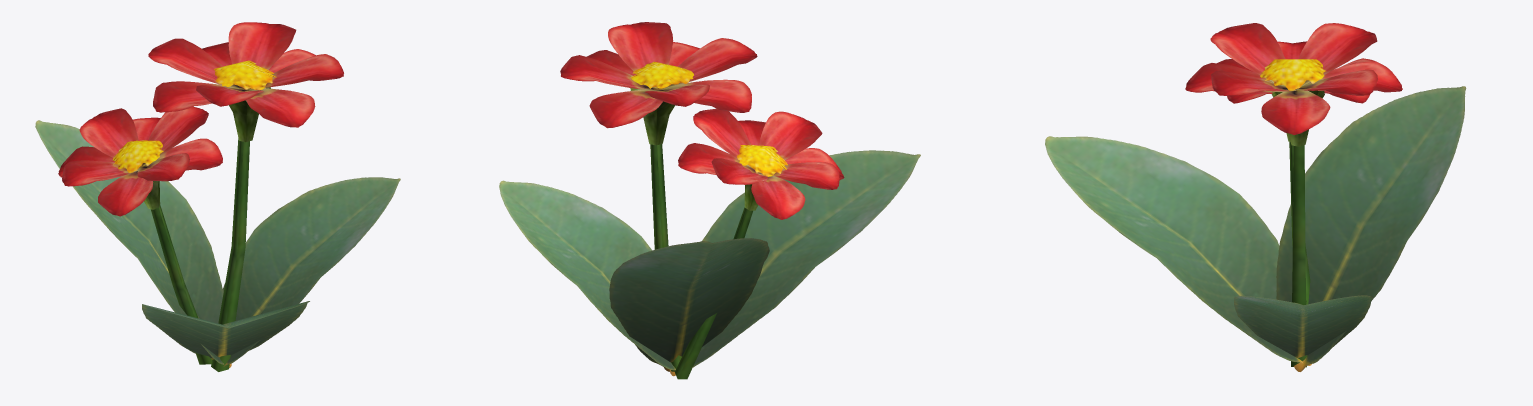
The model's file is redf4.fbx.
3 renders of one model, left to right at view 1: azimuth 30°, elevation 25°; view 2: azimuth 150°, elevation 25°; view 3: azimuth 270°, elevation 25°, orthographic. The views are drawn at different scales.
Parts seen in each view (by area): view 1: redflower04; view 2: redflower04; view 3: redflower04.
Part boxes in pixels (x1,y1,x2,y2): redflower04: [35, 22, 400, 371]; redflower04: [499, 22, 920, 379]; redflower04: [1045, 23, 1466, 371].
Size of the model in its own units: 30.67 by 24.16 by 35.46.
